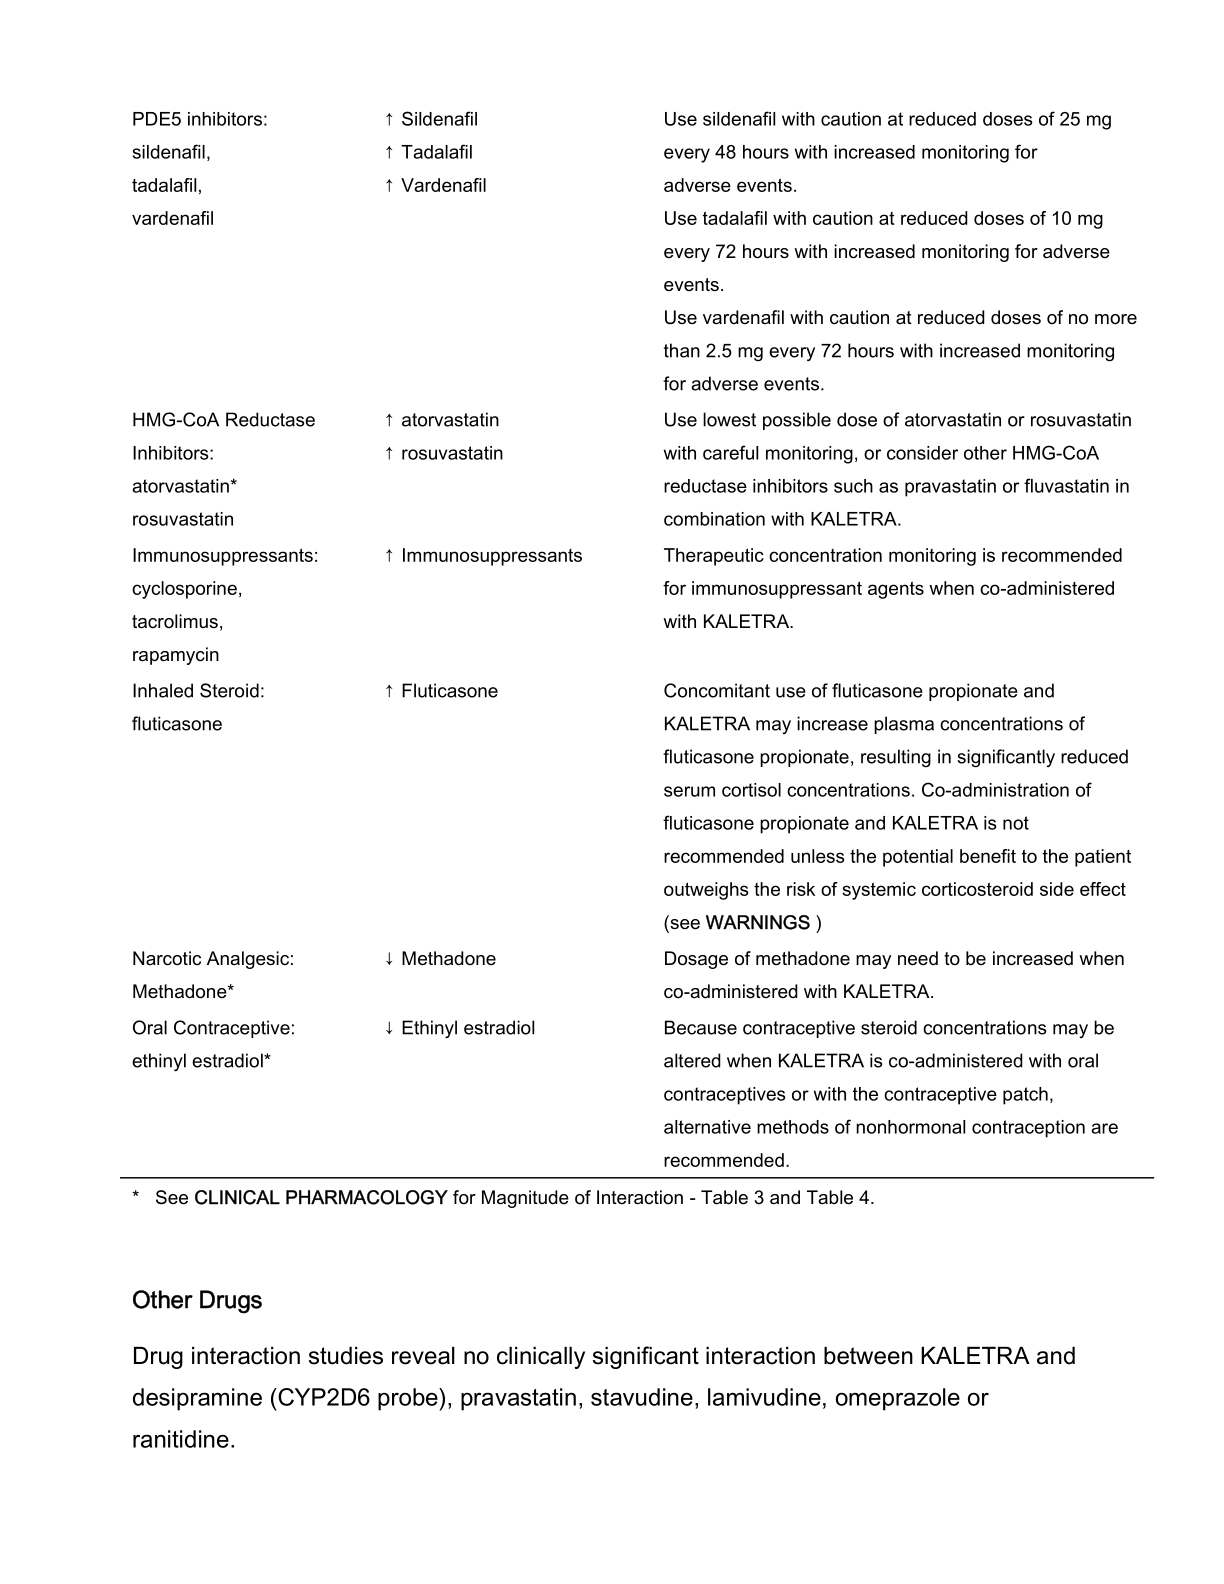nolines: (126, 108, 1139, 1171)
